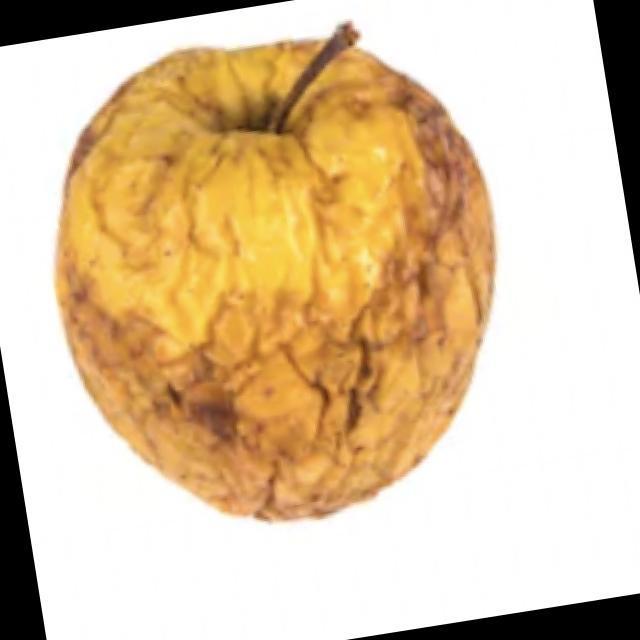rotten_apple: (18, 0, 537, 558)
